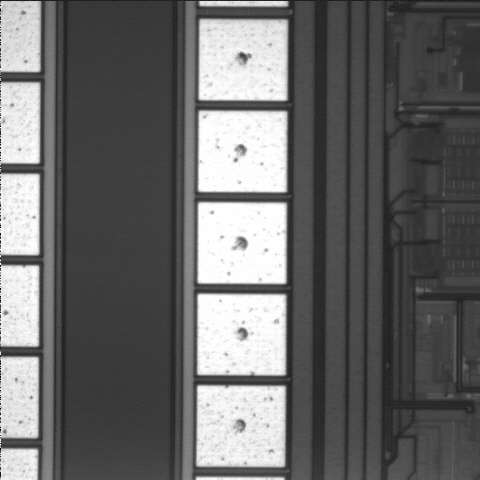pad: (198, 202, 287, 284), (199, 19, 287, 101), (198, 111, 287, 192), (197, 294, 286, 375), (197, 386, 285, 467)
